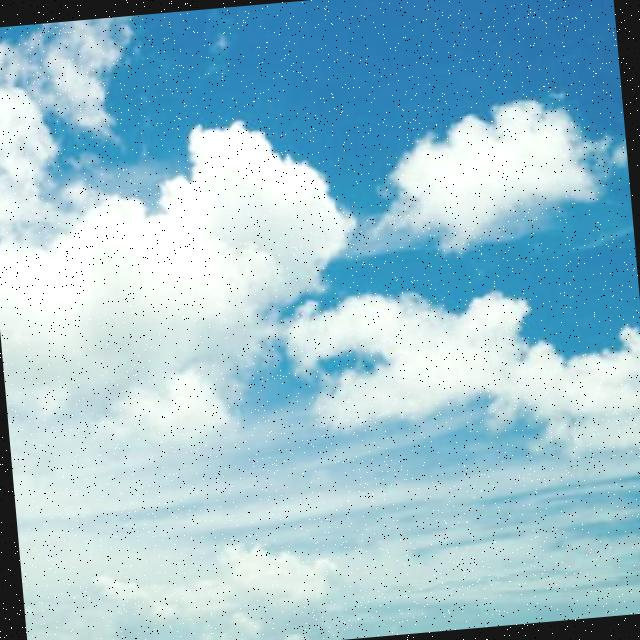Cc: (267, 235, 640, 497)
